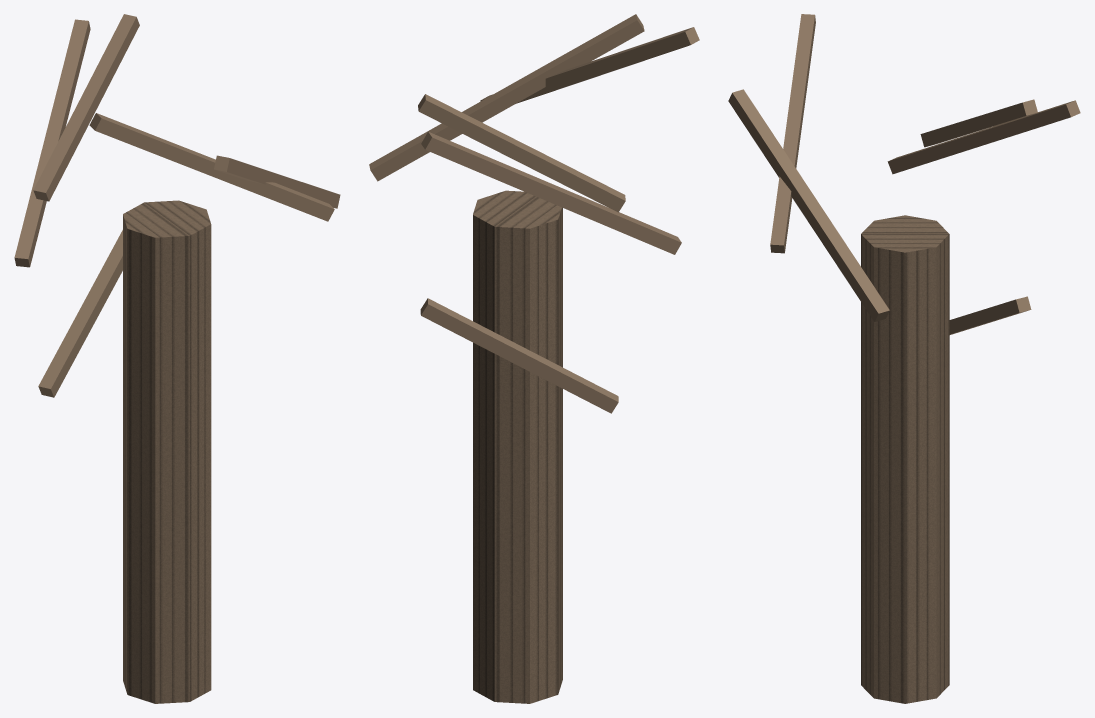
File: tree_bare_dead.glb
3 renders of one model, left to right at view 1: azimuth 30°, elevation 25°; view 2: azimuth 150°, elevation 25°; view 3: azimuth 270°, elevation 25°, orthographic. The views are drawn at different scales.
Parts seen in each view (by area): view 1: tree_trunk-col_333, branch_337, branch_334, branch_338, branch_335, branch_336; view 2: tree_trunk-col_333, branch_336, branch_338, branch_334, branch_335, branch_337; view 3: tree_trunk-col_333, branch_336, branch_337, branch_338, branch_334, branch_335.
Boxes of the visible parts, bbox=[...] form: tree_trunk-col_333: bbox=[123, 200, 211, 703]; branch_337: bbox=[89, 113, 334, 221]; branch_334: bbox=[33, 14, 139, 201]; branch_338: bbox=[14, 19, 90, 267]; branch_335: bbox=[38, 230, 122, 397]; branch_336: bbox=[214, 155, 340, 208]; tree_trunk-col_333: bbox=[473, 190, 562, 703]; branch_336: bbox=[369, 14, 644, 181]; branch_338: bbox=[421, 131, 681, 254]; branch_334: bbox=[418, 94, 625, 212]; branch_335: bbox=[420, 298, 618, 413]; branch_337: bbox=[480, 27, 699, 103]; tree_trunk-col_333: bbox=[861, 215, 949, 703]; branch_336: bbox=[728, 89, 889, 321]; branch_337: bbox=[770, 14, 815, 253]; branch_338: bbox=[887, 100, 1080, 174]; branch_334: bbox=[920, 99, 1037, 147]; branch_335: bbox=[949, 296, 1031, 334].
Size of the model in its own units: 1.28 by 2.45 by 1.27.
Materials: 2 (1 with a texture image).
